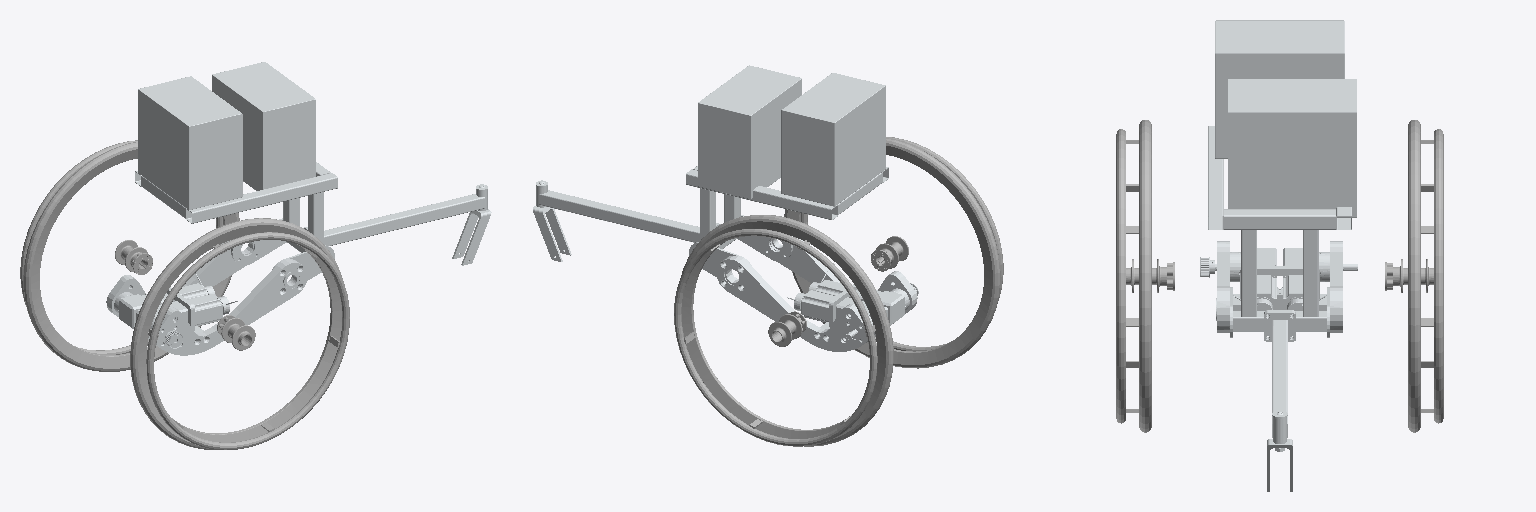
robot.urdf — wheelchair:
<?xml version="1.0" encoding="utf-8"?>
<!-- This URDF was automatically created by SolidWorks to URDF Exporter! Originally created by [author] ([email redacted]) 
     Commit Version: 1.5.1-0-g916b5db  Build Version: 1.5.7152.31018
     For more information, please see http://wiki.ros.org/sw_urdf_exporter -->
<robot
  name="wheelchair">
  <link
    name="Frame">
    <inertial>
      <origin
        xyz="-0.222515731055045 0.00824844167707826 0.220278773868655"
        rpy="0 0 0" />
      <mass
        value="25.5218455226117" />
      <inertia
        ixx="0.187867970908808"
        ixy="-1.16247288141221E-09"
        ixz="-0.0129329721363066"
        iyy="0.1870415689303"
        iyz="3.20069324721788E-09"
        izz="0.20373752352134" />
    </inertial>
    <visual>
      <origin
        xyz="0 0 0"
        rpy="0 0 0" />
      <geometry>
        <mesh
          filename="package://wheelchair/meshes/Frame.STL" />
      </geometry>
      <material
        name="">
        <color
          rgba="0.898039215686275 0.917647058823529 0.929411764705882 1" />
      </material>
    </visual>
    <collision>
      <origin
        xyz="0 0 0"
        rpy="0 0 0" />
      <geometry>
        <mesh
          filename="package://wheelchair/meshes/Frame.STL" />
      </geometry>
    </collision>
  </link>
  <link
    name="Caster">
    <inertial>
      <origin
        xyz="-0.018675 -0.0023779 -0.066791"
        rpy="0 0 0" />
      <mass
        value="0.18692" />
      <inertia
        ixx="0.00031039"
        ixy="1.0543E-06"
        ixz="-0.00010185"
        iyy="0.00030225"
        iyz="-1.2968E-05"
        izz="0.00012277" />
    </inertial>
    <visual>
      <origin
        xyz="0 0 0"
        rpy="0 0 0" />
      <geometry>
        <mesh
          filename="package://wheelchair/meshes/Caster.STL" />
      </geometry>
      <material
        name="">
        <color
          rgba="0.89804 0.91765 0.92941 1" />
      </material>
    </visual>
    <collision>
      <origin
        xyz="0 0 0"
        rpy="0 0 0" />
      <geometry>
        <mesh
          filename="package://wheelchair/meshes/Caster.STL" />
      </geometry>
    </collision>
  </link>
  <joint
    name="Caster_cont"
    type="continuous">
    <origin
      xyz="0.5078 0 0.00635"
      rpy="0 0 0" />
    <parent
      link="Frame" />
    <child
      link="Caster" />
    <axis
      xyz="0 0 1" />
    <limit
      effort="0"
      velocity="20" />
  </joint>
  <link
    name="WheelF">
    <inertial>
      <origin
        xyz="0 0 -2.7756E-17"
        rpy="0 0 0" />
      <mass
        value="2.1315" />
      <inertia
        ixx="0.0052886"
        ixy="-3.2526E-19"
        ixz="-1.09E-21"
        iyy="0.010349"
        iyz="-3.0141E-20"
        izz="0.0052886" />
    </inertial>
    <visual>
      <origin
        xyz="0 0 0"
        rpy="0 0 0" />
      <geometry>
        <mesh
          filename="package://wheelchair/meshes/WheelF.STL" />
      </geometry>
      <material
        name="">
        <color
          rgba="0.89804 0.91765 0.92941 1" />
      </material>
    </visual>
    <collision>
      <origin
        xyz="0 0 0"
        rpy="0 0 0" />
      <geometry>
        <mesh
          filename="package://wheelchair/meshes/WheelF.STL" />
      </geometry>
    </collision>
  </link>
  <joint
    name="WheelF_cont"
    type="continuous">
    <origin
      xyz="-0.0518843000619276 -0.00660668610975347 -0.1478026"
      rpy="0 0 0.126653383400985" />
    <parent
      link="Caster" />
    <child
      link="WheelF" />
    <axis
      xyz="0 -1 0" />
    <limit
      effort="0"
      velocity="20" />
  </joint>
  <link
    name="SwingR">
    <inertial>
      <origin
        xyz="-0.14883 0.054597 -0.033745"
        rpy="0 0 0" />
      <mass
        value="4.8363" />
      <inertia
        ixx="0.0094524"
        ixy="-0.00067415"
        ixz="-0.0056619"
        iyy="0.022613"
        iyz="3.9175E-05"
        izz="0.018459" />
    </inertial>
    <visual>
      <origin
        xyz="0 0 0"
        rpy="0 0 0" />
      <geometry>
        <mesh
          filename="package://wheelchair/meshes/SwingR.STL" />
      </geometry>
      <material
        name="">
        <color
          rgba="0.75294 0.75294 0.75294 1" />
      </material>
    </visual>
    <collision>
      <origin
        xyz="0 0 0"
        rpy="0 0 0" />
      <geometry>
        <mesh
          filename="package://wheelchair/meshes/SwingR.STL" />
      </geometry>
    </collision>
  </link>
  <joint
    name="SwingR_rev"
    type="revolute">
    <origin
      xyz="-0.106 -0.2118548 -0.0238887"
      rpy="0 0 0" />
    <parent
      link="Frame" />
    <child
      link="SwingR" />
    <axis
      xyz="0 1 0" />
    <limit
      lower="0"
      upper="0.67265"
      effort="0"
      velocity="2" />
    <dynamics damping="0.7" friction="0.0"/>
  </joint>
  <link
    name="WheelR">
    <inertial>
      <origin
        xyz="1.8579E-05 -0.0076777 -2.2937E-05"
        rpy="0 0 0" />
      <mass
        value="2.1893" />
      <inertia
        ixx="0.07871"
        ixy="3.2611E-07"
        ixz="-4.0455E-07"
        iyy="0.15702"
        iyz="-4.0261E-07"
        izz="0.07871" />
    </inertial>
    <visual>
      <origin
        xyz="0 0 0"
        rpy="0 0 0" />
      <geometry>
        <mesh
          filename="package://wheelchair/meshes/WheelR.STL" />
      </geometry>
      <material
        name="">
        <color
          rgba="0.75294 0.75294 0.75294 1" />
      </material>
    </visual>
    <collision>
      <origin
        xyz="0 0 0"
        rpy="0 0 0" />
      <geometry>
        <mesh
          filename="package://wheelchair/meshes/WheelR.STL" />
      </geometry>
    </collision>
  </link>
  <joint
    name="WheelR_cont"
    type="continuous">
    <origin
      xyz="-0.232195893808092 -0.0517862 -0.0361948462997351"
      rpy="0 0 0" />
    <parent
      link="SwingR" />
    <child
      link="WheelR" />
    <axis
      xyz="0 1 0" />
    <limit
      effort="0"
      velocity="16.25" />
  </joint>
  <link
    name="SwingL">
    <inertial>
      <origin
        xyz="-0.15869 -0.056844 -0.023612"
        rpy="0 0 0" />
      <mass
        value="3.4241" />
      <inertia
        ixx="0.0064026"
        ixy="0.00029746"
        ixz="-0.002243"
        iyy="0.012384"
        iyz="1.5901E-05"
        izz="0.0099363" />
    </inertial>
    <visual>
      <origin
        xyz="0 0 0"
        rpy="0 0 0" />
      <geometry>
        <mesh
          filename="package://wheelchair/meshes/SwingL.STL" />
      </geometry>
      <material
        name="">
        <color
          rgba="0.75294 0.75294 0.75294 1" />
      </material>
    </visual>
    <collision>
      <origin
        xyz="0 0 0"
        rpy="0 0 0" />
      <geometry>
        <mesh
          filename="package://wheelchair/meshes/SwingL.STL" />
      </geometry>
    </collision>
  </link>
  <joint
    name="SwingL_rev"
    type="revolute">
    <origin
      xyz="-0.106 0.20947 -0.023889"
      rpy="0 0 0" />
    <parent
      link="Frame" />
    <child
      link="SwingL" />
    <axis
      xyz="0 1 0" />
    <limit
      lower="0"
      upper="0.67265"
      effort="0"
      velocity="2" />
    <dynamics damping="0.7" friction="0.0"/>
  </joint>
  <link
    name="WheelL">
    <inertial>
      <origin
        xyz="1.8579E-05 0.0076777 -2.2937E-05"
        rpy="0 0 0" />
      <mass
        value="2.1893" />
      <inertia
        ixx="0.07871"
        ixy="-3.2611E-07"
        ixz="-4.0455E-07"
        iyy="0.15702"
        iyz="4.0261E-07"
        izz="0.07871" />
    </inertial>
    <visual>
      <origin
        xyz="0 0 0"
        rpy="0 0 0" />
      <geometry>
        <mesh
          filename="package://wheelchair/meshes/WheelL.STL" />
      </geometry>
      <material
        name="">
        <color
          rgba="0.75294 0.75294 0.75294 1" />
      </material>
    </visual>
    <collision>
      <origin
        xyz="0 0 0"
        rpy="0 0 0" />
      <geometry>
        <mesh
          filename="package://wheelchair/meshes/WheelL.STL" />
      </geometry>
    </collision>
  </link>
  <joint
    name="WheelL_cont"
    type="continuous">
    <origin
      xyz="-0.2322 0.054167 -0.036195"
      rpy="0 0 0" />
    <parent
      link="SwingL" />
    <child
      link="WheelL" />
    <axis
      xyz="0 1 0" />
    <limit
      effort="0"
      velocity="16.25" />
  </joint>

  <gazebo>
    <plugin name="differential_drive_controller"
            filename="libgazebo_ros_diff_drive.so">
      <leftJoint>WheelL_cont</leftJoint>
      <rightJoint>WheelR_cont</rightJoint>
      <!-- Robot frame to calculate odometry from, defaults to `base_footprint` -->
      <wheelSeparation>0.52728</wheelSeparation>
      <wheelDiameter>0.635</wheelDiameter>
      <!-- Wheel acceleration, in rad/s^2, defaults to 0.0 rad/s^2 -->
      <wheelAcceleration>1.0</wheelAcceleration>

      <!-- Maximum torque which the wheels can produce, in Nm, defaults to 5 Nm -->
      <wheelTorque>20</wheelTorque>

      <!-- Topic to receive geometry_msgs/Twist message commands, defaults to `cmd_vel` -->
      <commandTopic>cmd_vel</commandTopic>

      <!-- Topic to publish nav_msgs/Odometry messages, defaults to `odom` -->
      <odometryTopic>odom</odometryTopic>

      <!-- Odometry frame, defaults to `odom` -->
      <odometryFrame>odom</odometryFrame>

      <!-- Robot frame to calculate odometry from, defaults to `base_footprint` -->
      <robotBaseFrame>Frame</robotBaseFrame>

      <!-- Odometry source, 0 for ENCODER, 1 for WORLD, defaults to WORLD -->
      <odometrySource>1</odometrySource>

      <!-- Set to true to publish transforms for the wheel links, defaults to false -->
      <publishWheelTF>true</publishWheelTF>

      <!-- Set to true to publish transforms for the odometry, defaults to true -->
      <publishOdom>true</publishOdom>

      <!-- Set to true to publish sensor_msgs/JointState on /joint_states for the wheel joints, defaults to false -->
      <publishWheelJointState>true</publishWheelJointState>
    </plugin>
  </gazebo>

</robot>

--- Render facts (derived) ---
The picture shows the robot from 3 angles, left to right: view 1: azimuth 30°, elevation 25°; view 2: azimuth 150°, elevation 25°; view 3: azimuth 270°, elevation 25°; orthographic projection.
Model wheelchair with 7 links and 6 joints (2 revolute, 4 continuous), rooted at Frame, posed all joints at 0.
Visible links, largest first — view 1: Frame, WheelR, WheelL, Caster; view 2: Frame, WheelL, WheelR, Caster; view 3: Frame, WheelR, WheelL, Caster.
Link boxes in pixels (x1,y1,x2,y2): Frame: (106,62,487,355); WheelR: (130,218,349,449); WheelL: (20,140,239,371); Caster: (452,184,491,265); Frame: (536,65,918,351); WheelL: (674,215,893,446); WheelR: (784,137,1003,368); Caster: (533,180,571,261); Frame: (1200,20,1357,442); WheelR: (1116,120,1174,432); WheelL: (1385,120,1443,432); Caster: (1267,410,1292,491).
Bounding box of the posed robot: 1.17 × 0.6411 × 0.8317 m (x, y, z).
Meshes: 7 distinct files referenced, 4 mesh visuals loaded (4 binary STL); not drawn: 3 (reference not matched to a file when rendering).